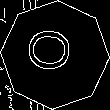O_E: (28, 32, 82, 78)
